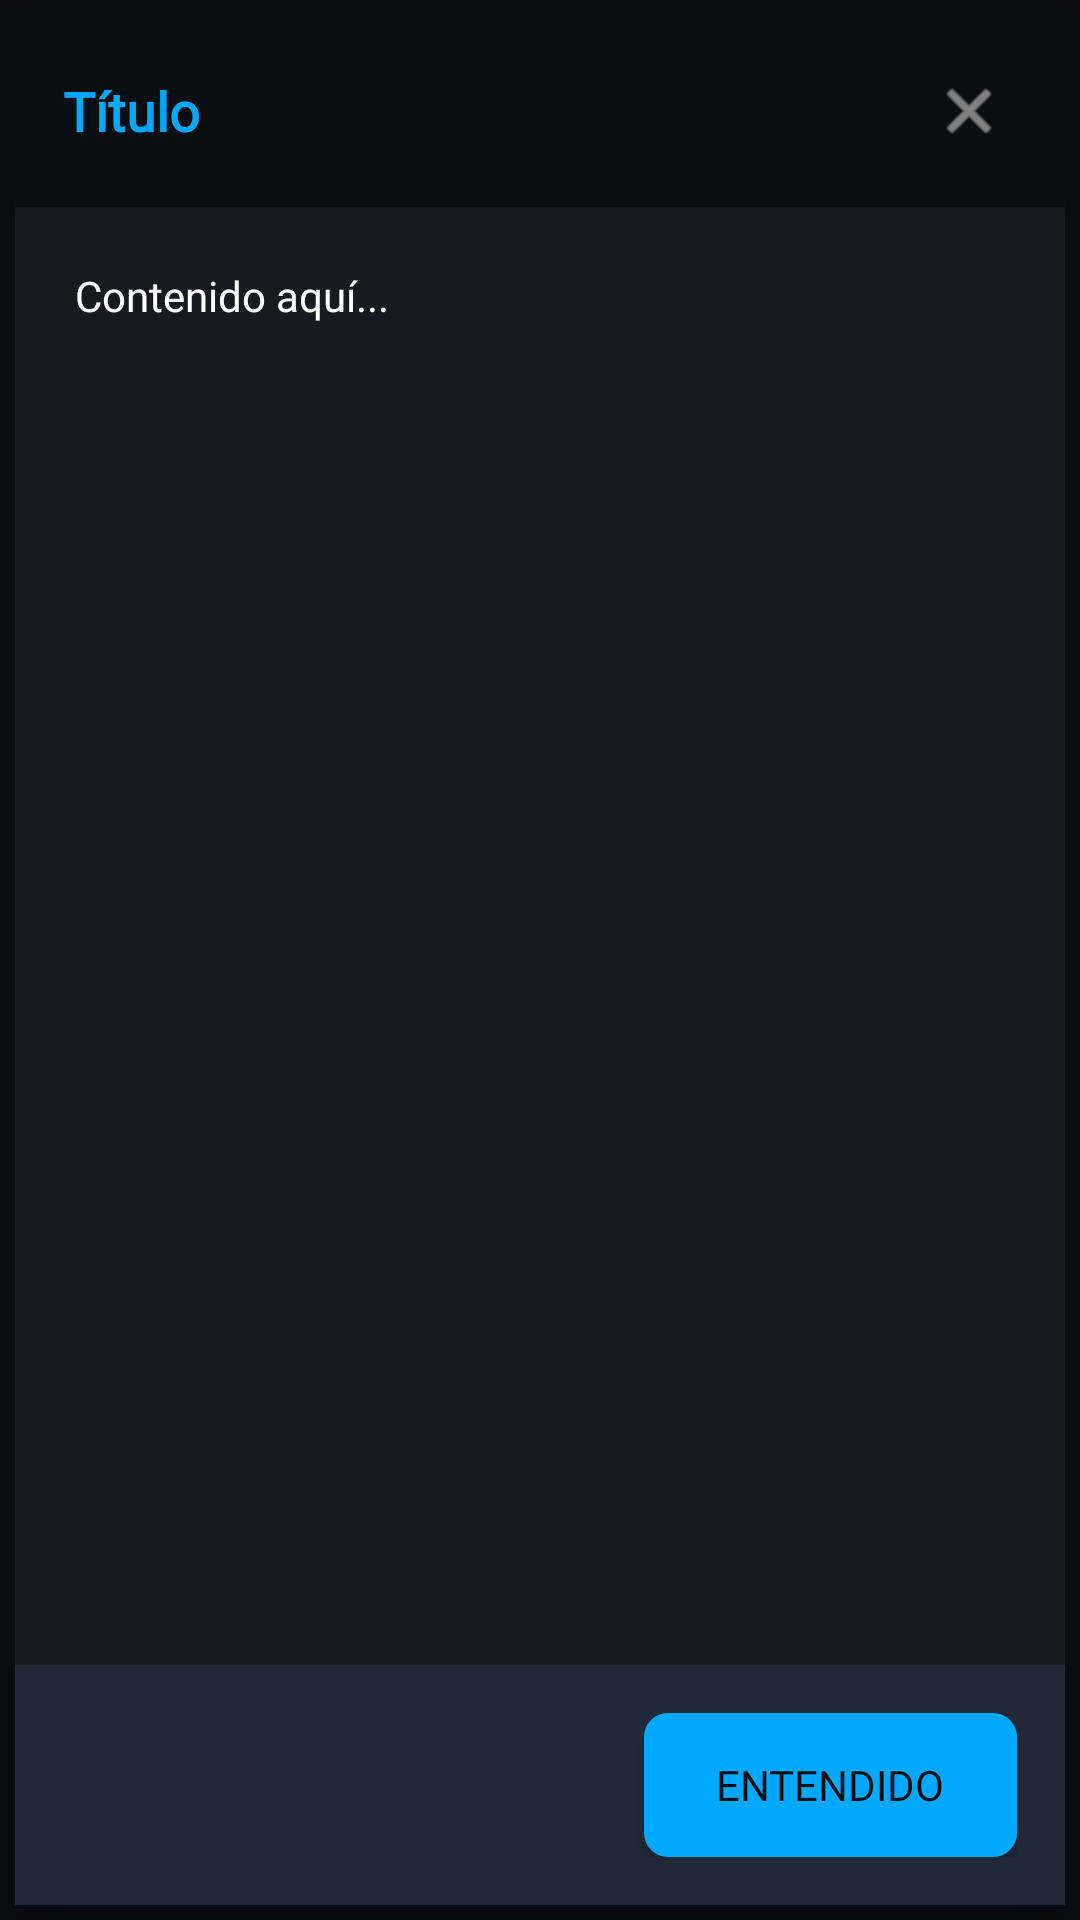

Locate icon controls on the screen. Image size 1080×1920, boxes as (x1, y1, x2, y2).
close clear cancel: (947, 89, 991, 133)
